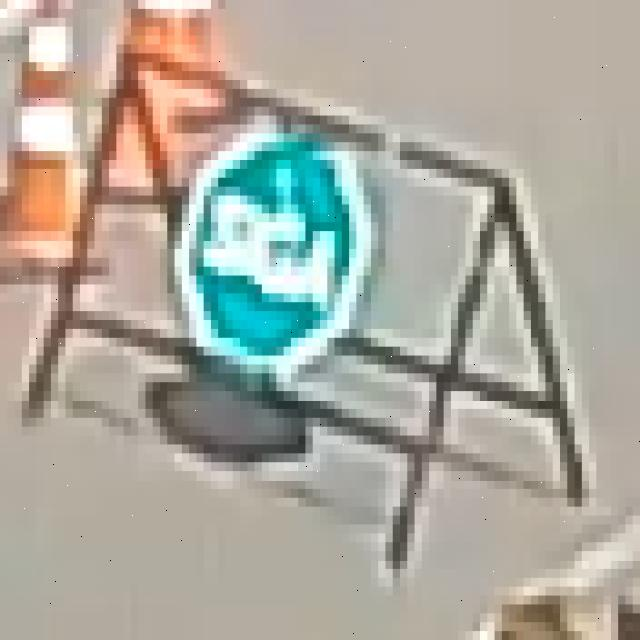go_sign: (167, 124, 393, 400)
